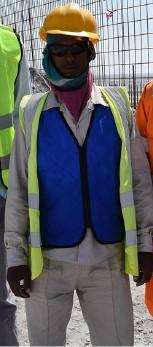hat: (36, 2, 111, 86)
vest: (16, 83, 151, 327), (1, 14, 26, 215)
